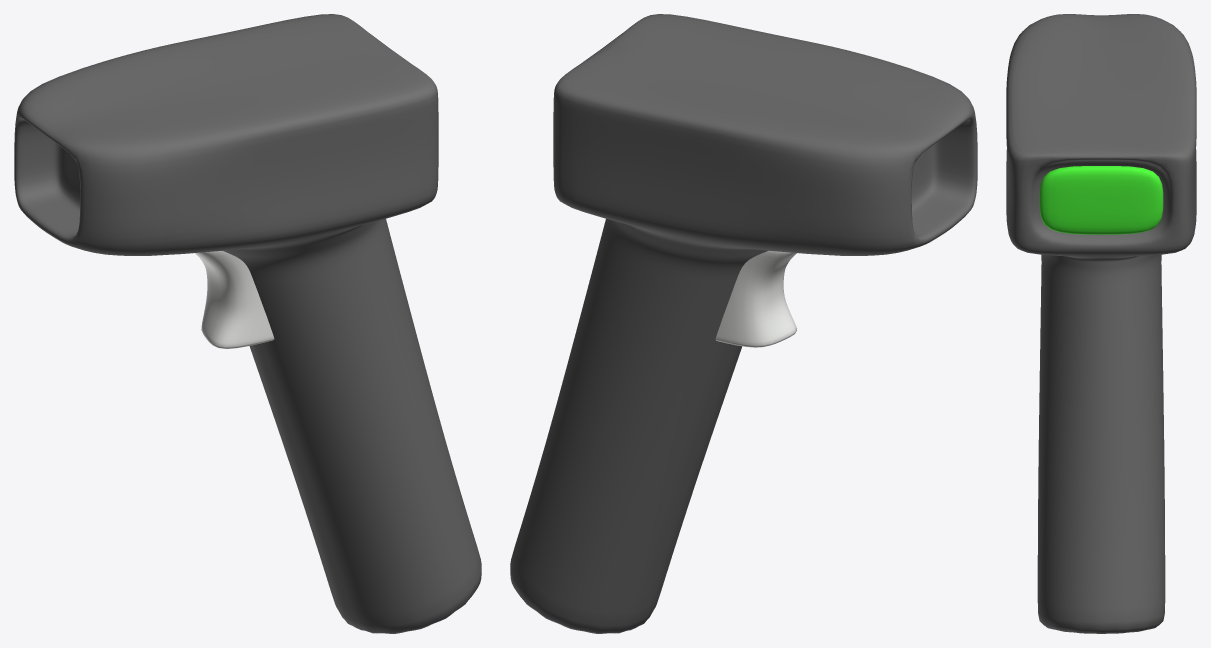
The model's file is bar_scan.fbx.
3 renders of one model, left to right at view 1: azimuth 30°, elevation 25°; view 2: azimuth 150°, elevation 25°; view 3: azimuth 270°, elevation 25°, orthographic. The views are drawn at different scales.
Visible parts, largest first — view 1: Cylinder, Cylinder.001; view 2: Cylinder, Cylinder.001; view 3: Cylinder, Cylinder.002.
Boxes of the visible parts, x1,y1,x2,y2 form: Cylinder: [14, 14, 481, 633]; Cylinder.001: [195, 251, 274, 348]; Cylinder: [510, 14, 977, 633]; Cylinder.001: [715, 250, 796, 347]; Cylinder: [1006, 14, 1196, 633]; Cylinder.002: [1039, 166, 1163, 234].
Size of the model in its own units: 319 by 407 by 146.
